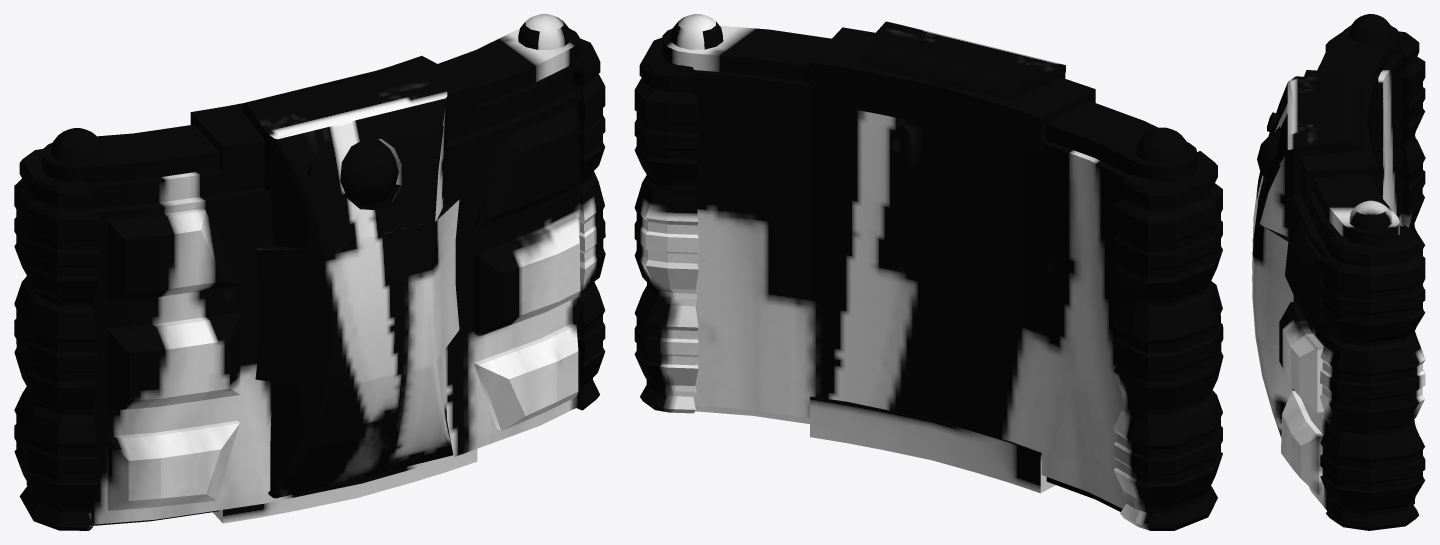
Rendered from SM_Claymore_00.fbx.
The picture shows the model from 3 angles, left to right: view 1: azimuth 30°, elevation 25°; view 2: azimuth 150°, elevation 25°; view 3: azimuth 270°, elevation 25°; orthographic projection. The views are drawn at different scales.
Visible parts, largest first — view 1: SM_Claymore_00; view 2: SM_Claymore_00; view 3: SM_Claymore_00.
Part boxes in pixels (box(x1,y1,x2,y2)): SM_Claymore_00: box(14, 14, 605, 530); SM_Claymore_00: box(634, 14, 1223, 530); SM_Claymore_00: box(1252, 14, 1425, 530).
Bounding box in the file's own units: 51.16 × 33.54 × 16.47.
